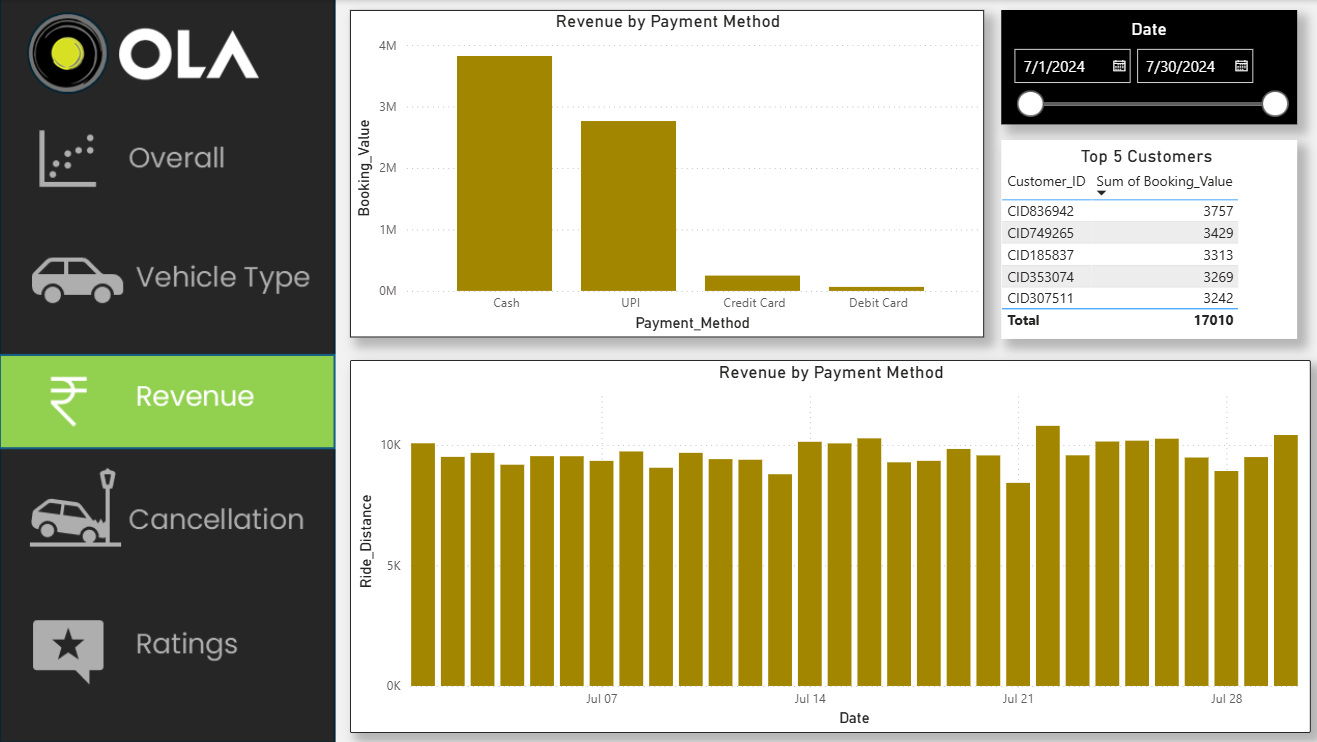

Layout of this report page (visuals, bound fields, positions):
{"tool":"powerbi","page":{"name":"Revenue","canvas":[1280,720],"ordinal":2},"visuals":[{"type":"actionButton","box":[0,217.2,324.5,92.2],"z":0},{"type":"actionButton","box":[0,449.6,324.5,92.2],"z":1000},{"type":"actionButton","box":[0,579,324.5,92.2],"z":2000},{"type":"actionButton","box":[0,106.4,324.5,92.2],"z":3000},{"type":"columnChart","title":"Revenue by Payment Method","fields":{"Category":["July.Payment_Method"],"Y":["Sum(July.Booking_Value)"]},"box":[337.8,10.2,612.2,316.3],"z":3001},{"type":"columnChart","title":"Revenue by Payment Method","fields":{"Y":["Sum(July.Ride_Distance)"],"Category":["July.Date"]},"box":[337.8,346.9,927.6,360.2],"z":3002},{"type":"slicer","title":"Date","fields":{"Values":["July.Date"]},"box":[966.3,10.2,285.7,110.2],"z":3003},{"type":"tableEx","title":"Top 5 Customers","fields":{"Values":["July.Customer_ID","Sum(July.Booking_Value)"]},"box":[966.3,134.7,285.7,191.8],"z":3004}]}

Visuals, with their boxes in screenshot pixels (x1, y1, x2, y2), scaled from the page's 1280x720 canvas onto the 1317x742 screenshot:
actionButton: bbox(0, 224, 334, 319)
actionButton: bbox(0, 463, 334, 558)
actionButton: bbox(0, 597, 334, 692)
actionButton: bbox(0, 110, 334, 205)
"Revenue by Payment Method" columnChart: bbox(348, 11, 977, 336)
"Revenue by Payment Method" columnChart: bbox(348, 357, 1302, 729)
"Date" slicer: bbox(994, 11, 1288, 124)
"Top 5 Customers" tableEx: bbox(994, 139, 1288, 336)
